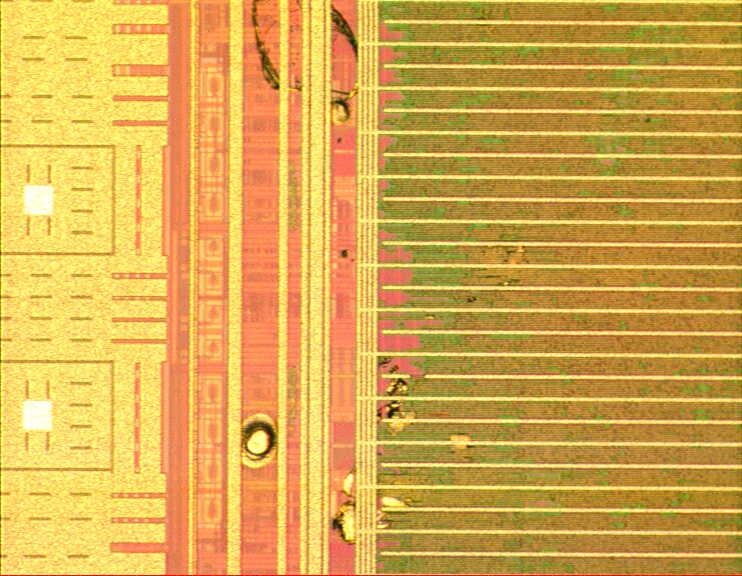BLOCK ETCH: (231, 1, 539, 551)
